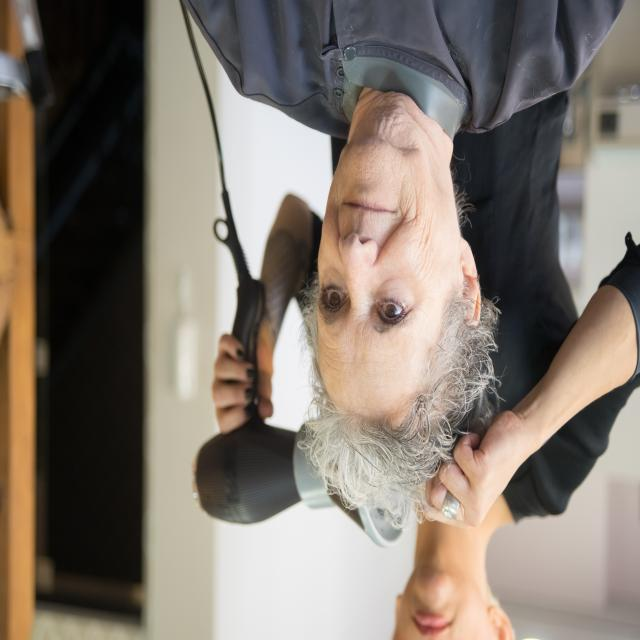dryer: (192, 216, 326, 527)
